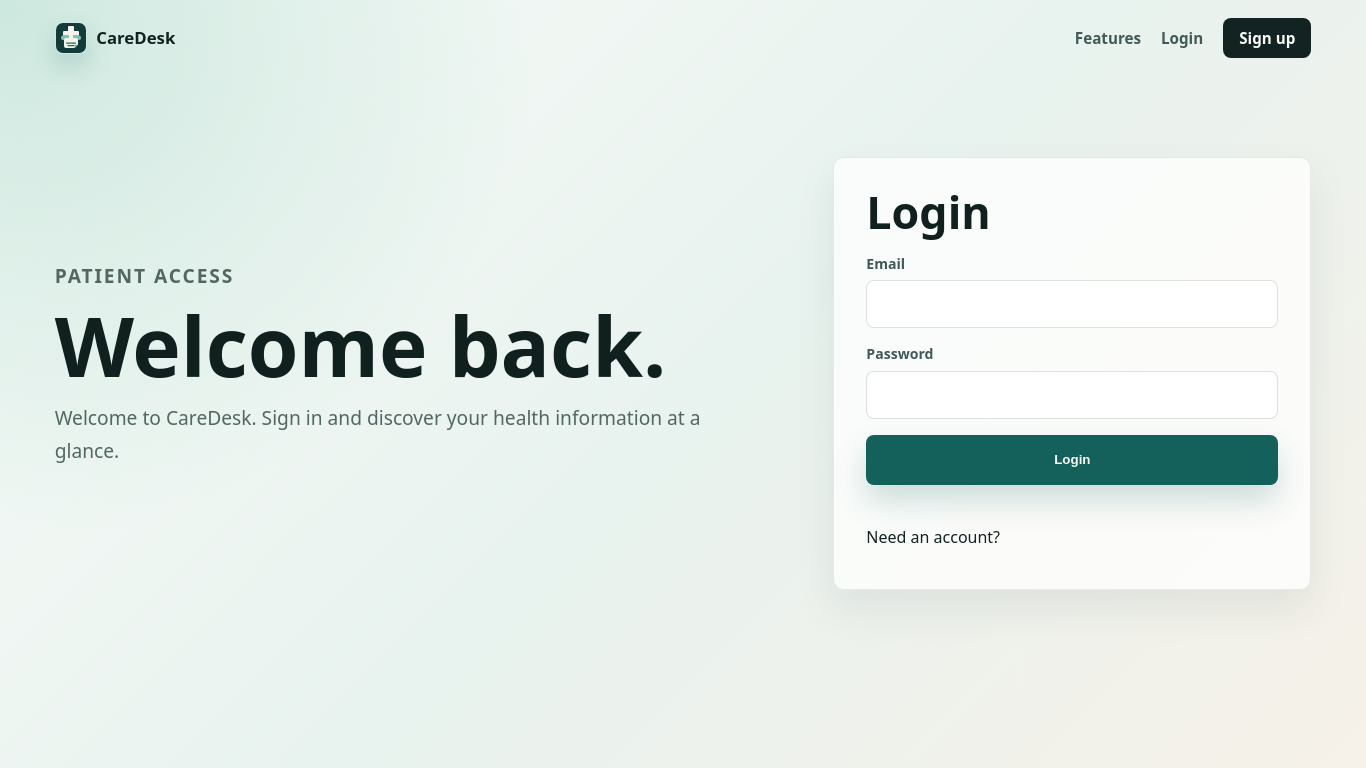
Test case: login workflow › shows an error and stays on the form when credentials are wrong
Type "anna@example.com" into the field labelled "Email" at point(1072, 304), box [866,280,1278,328]
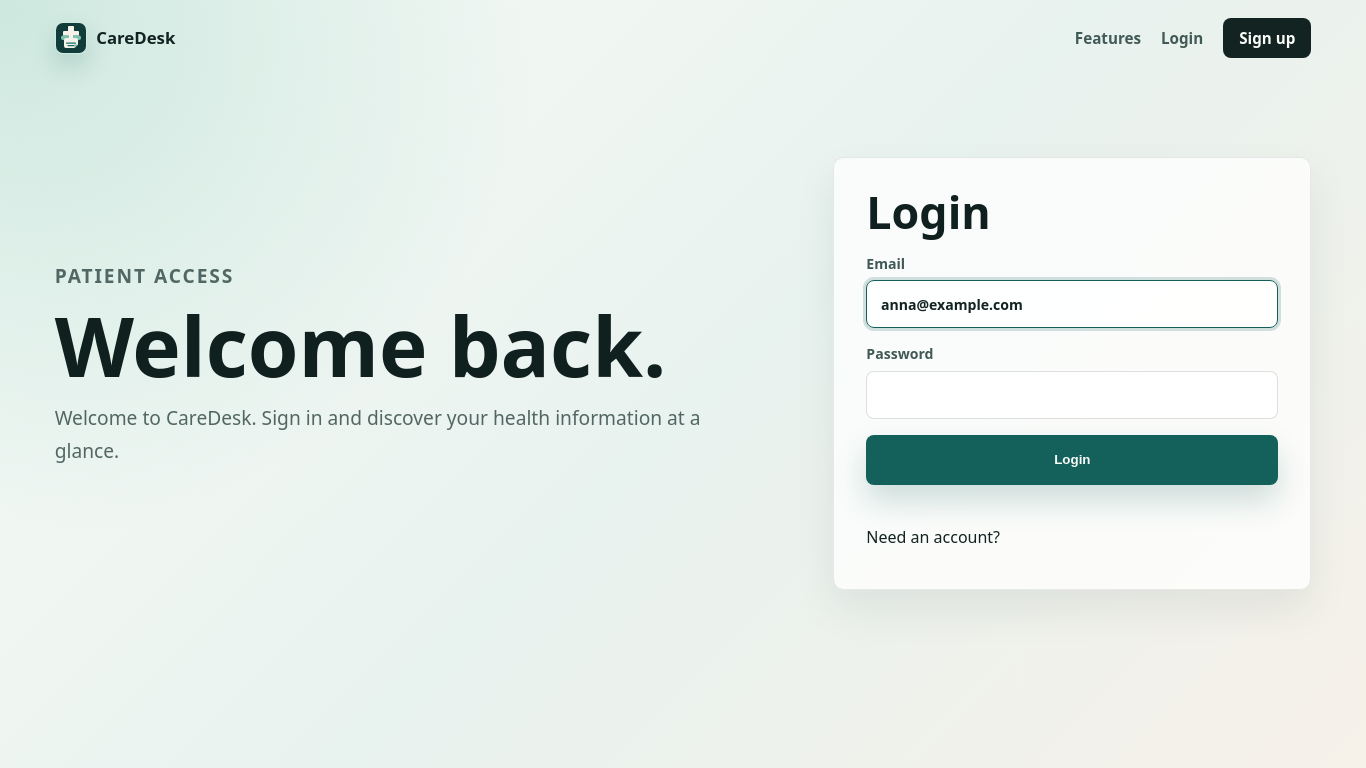
Type "wrong-password" into the password field labelled "Password" at point(1072, 394), box [866,370,1278,418]
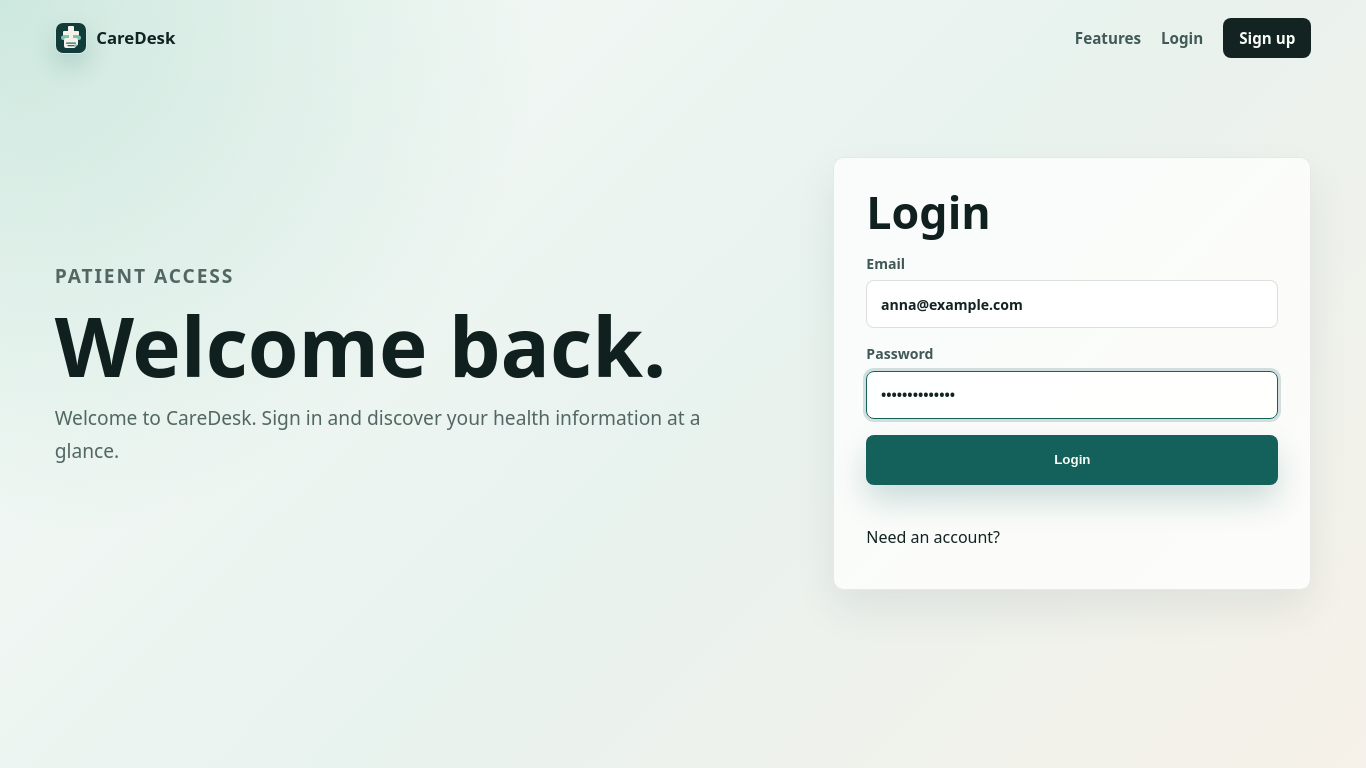
Click the button "Login" at point(1072, 460), box [866,434,1278,485]
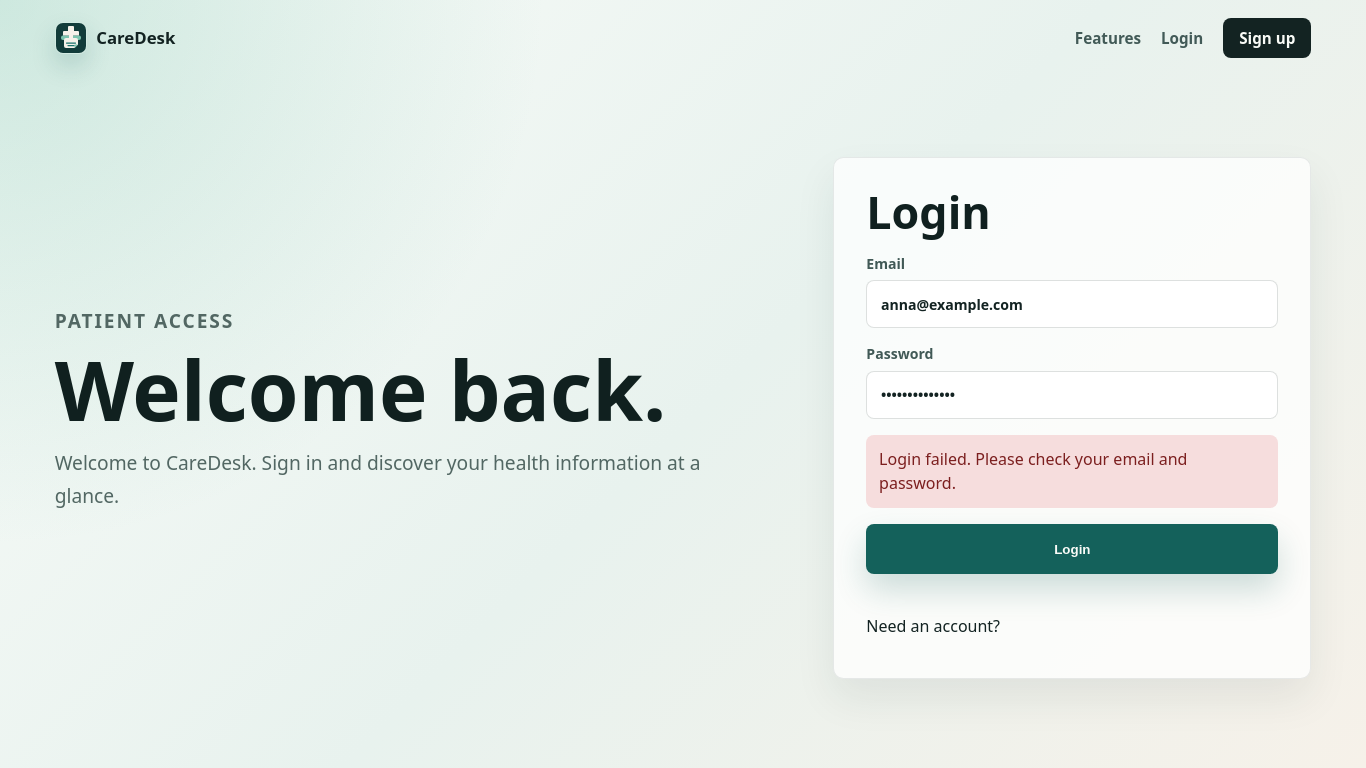
Expected: the button "Login" is enabled, [866,524,1278,574]
Expected: the text "Login failed. Please check your email and password." is shown, [866,434,1278,508]
